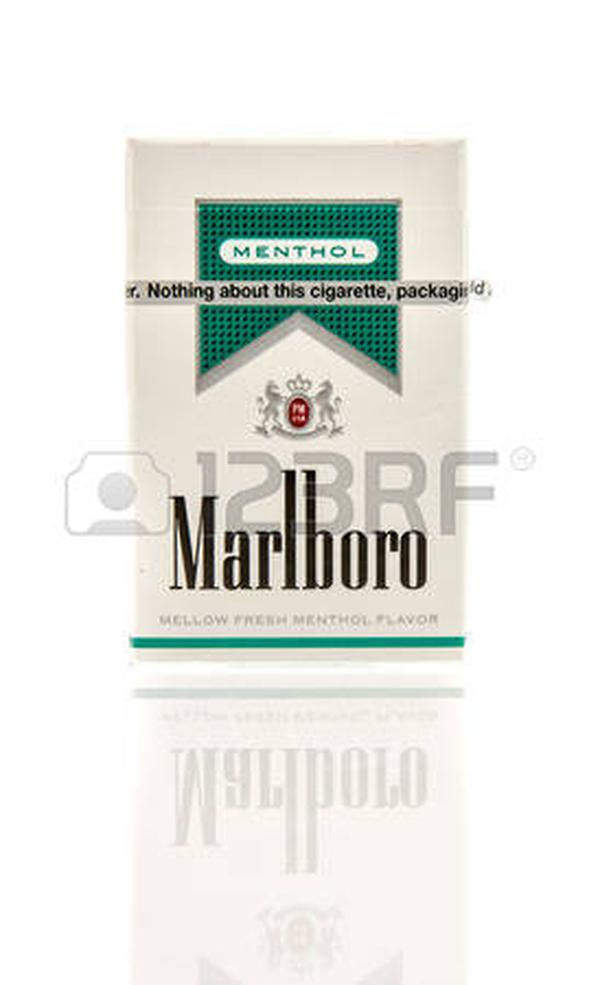marlboro_mentol: (134, 149, 462, 691)
